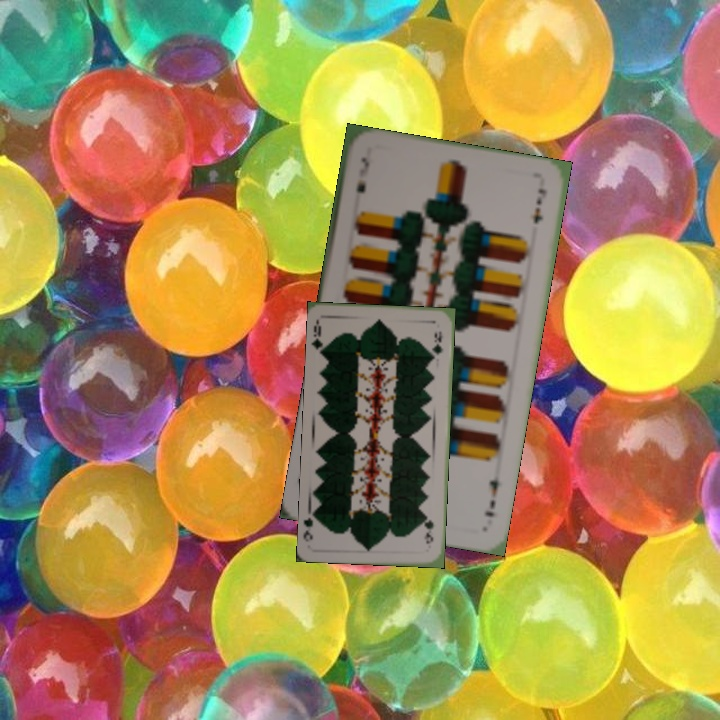E7: (481, 475, 501, 520), (352, 152, 372, 196)
G9: (309, 317, 328, 358), (422, 512, 436, 546)
